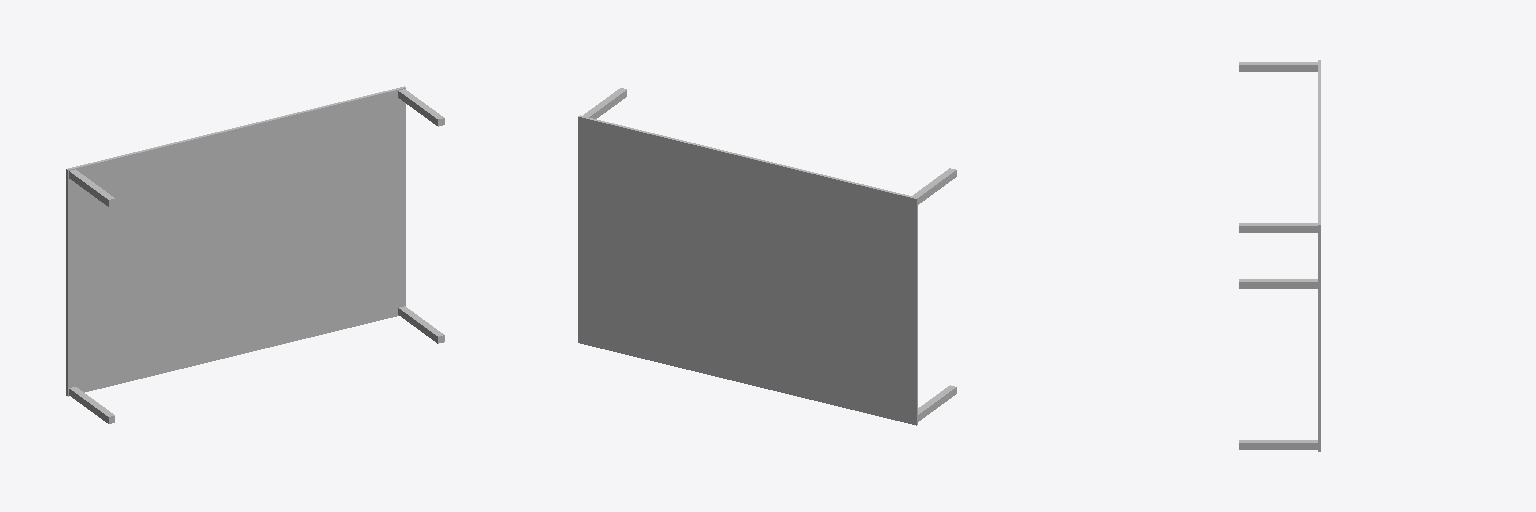
The model's file is random_table46.obj.
3 renders of one model, left to right at view 1: azimuth 30°, elevation 25°; view 2: azimuth 150°, elevation 25°; view 3: azimuth 270°, elevation 25°, orthographic.
Visible parts, largest first — view 1: Table_Cube.425, TableLeg0_Cube.426, TableLeg2_Cube.428, TableLeg1_Cube.427, TableLeg3_Cube.429; view 2: Table_Cube.425, TableLeg1_Cube.427; view 3: Table_Cube.425, TableLeg0_Cube.426, TableLeg1_Cube.427, TableLeg2_Cube.428, TableLeg3_Cube.429.
Part boxes in pixels (bbox=[...]): Table_Cube.425: bbox=[66, 86, 405, 396]; TableLeg0_Cube.426: bbox=[398, 89, 444, 126]; TableLeg2_Cube.428: bbox=[398, 306, 444, 343]; TableLeg1_Cube.427: bbox=[69, 169, 114, 206]; TableLeg3_Cube.429: bbox=[69, 387, 114, 423]; Table_Cube.425: bbox=[578, 115, 917, 425]; TableLeg1_Cube.427: bbox=[913, 168, 956, 204]; Table_Cube.425: bbox=[1318, 60, 1320, 451]; TableLeg0_Cube.426: bbox=[1239, 223, 1317, 232]; TableLeg1_Cube.427: bbox=[1239, 62, 1317, 71]; TableLeg2_Cube.428: bbox=[1239, 440, 1317, 449]; TableLeg3_Cube.429: bbox=[1239, 279, 1317, 288].
Size of the model in its own units: 11.38 by 7.28 by 2.41.